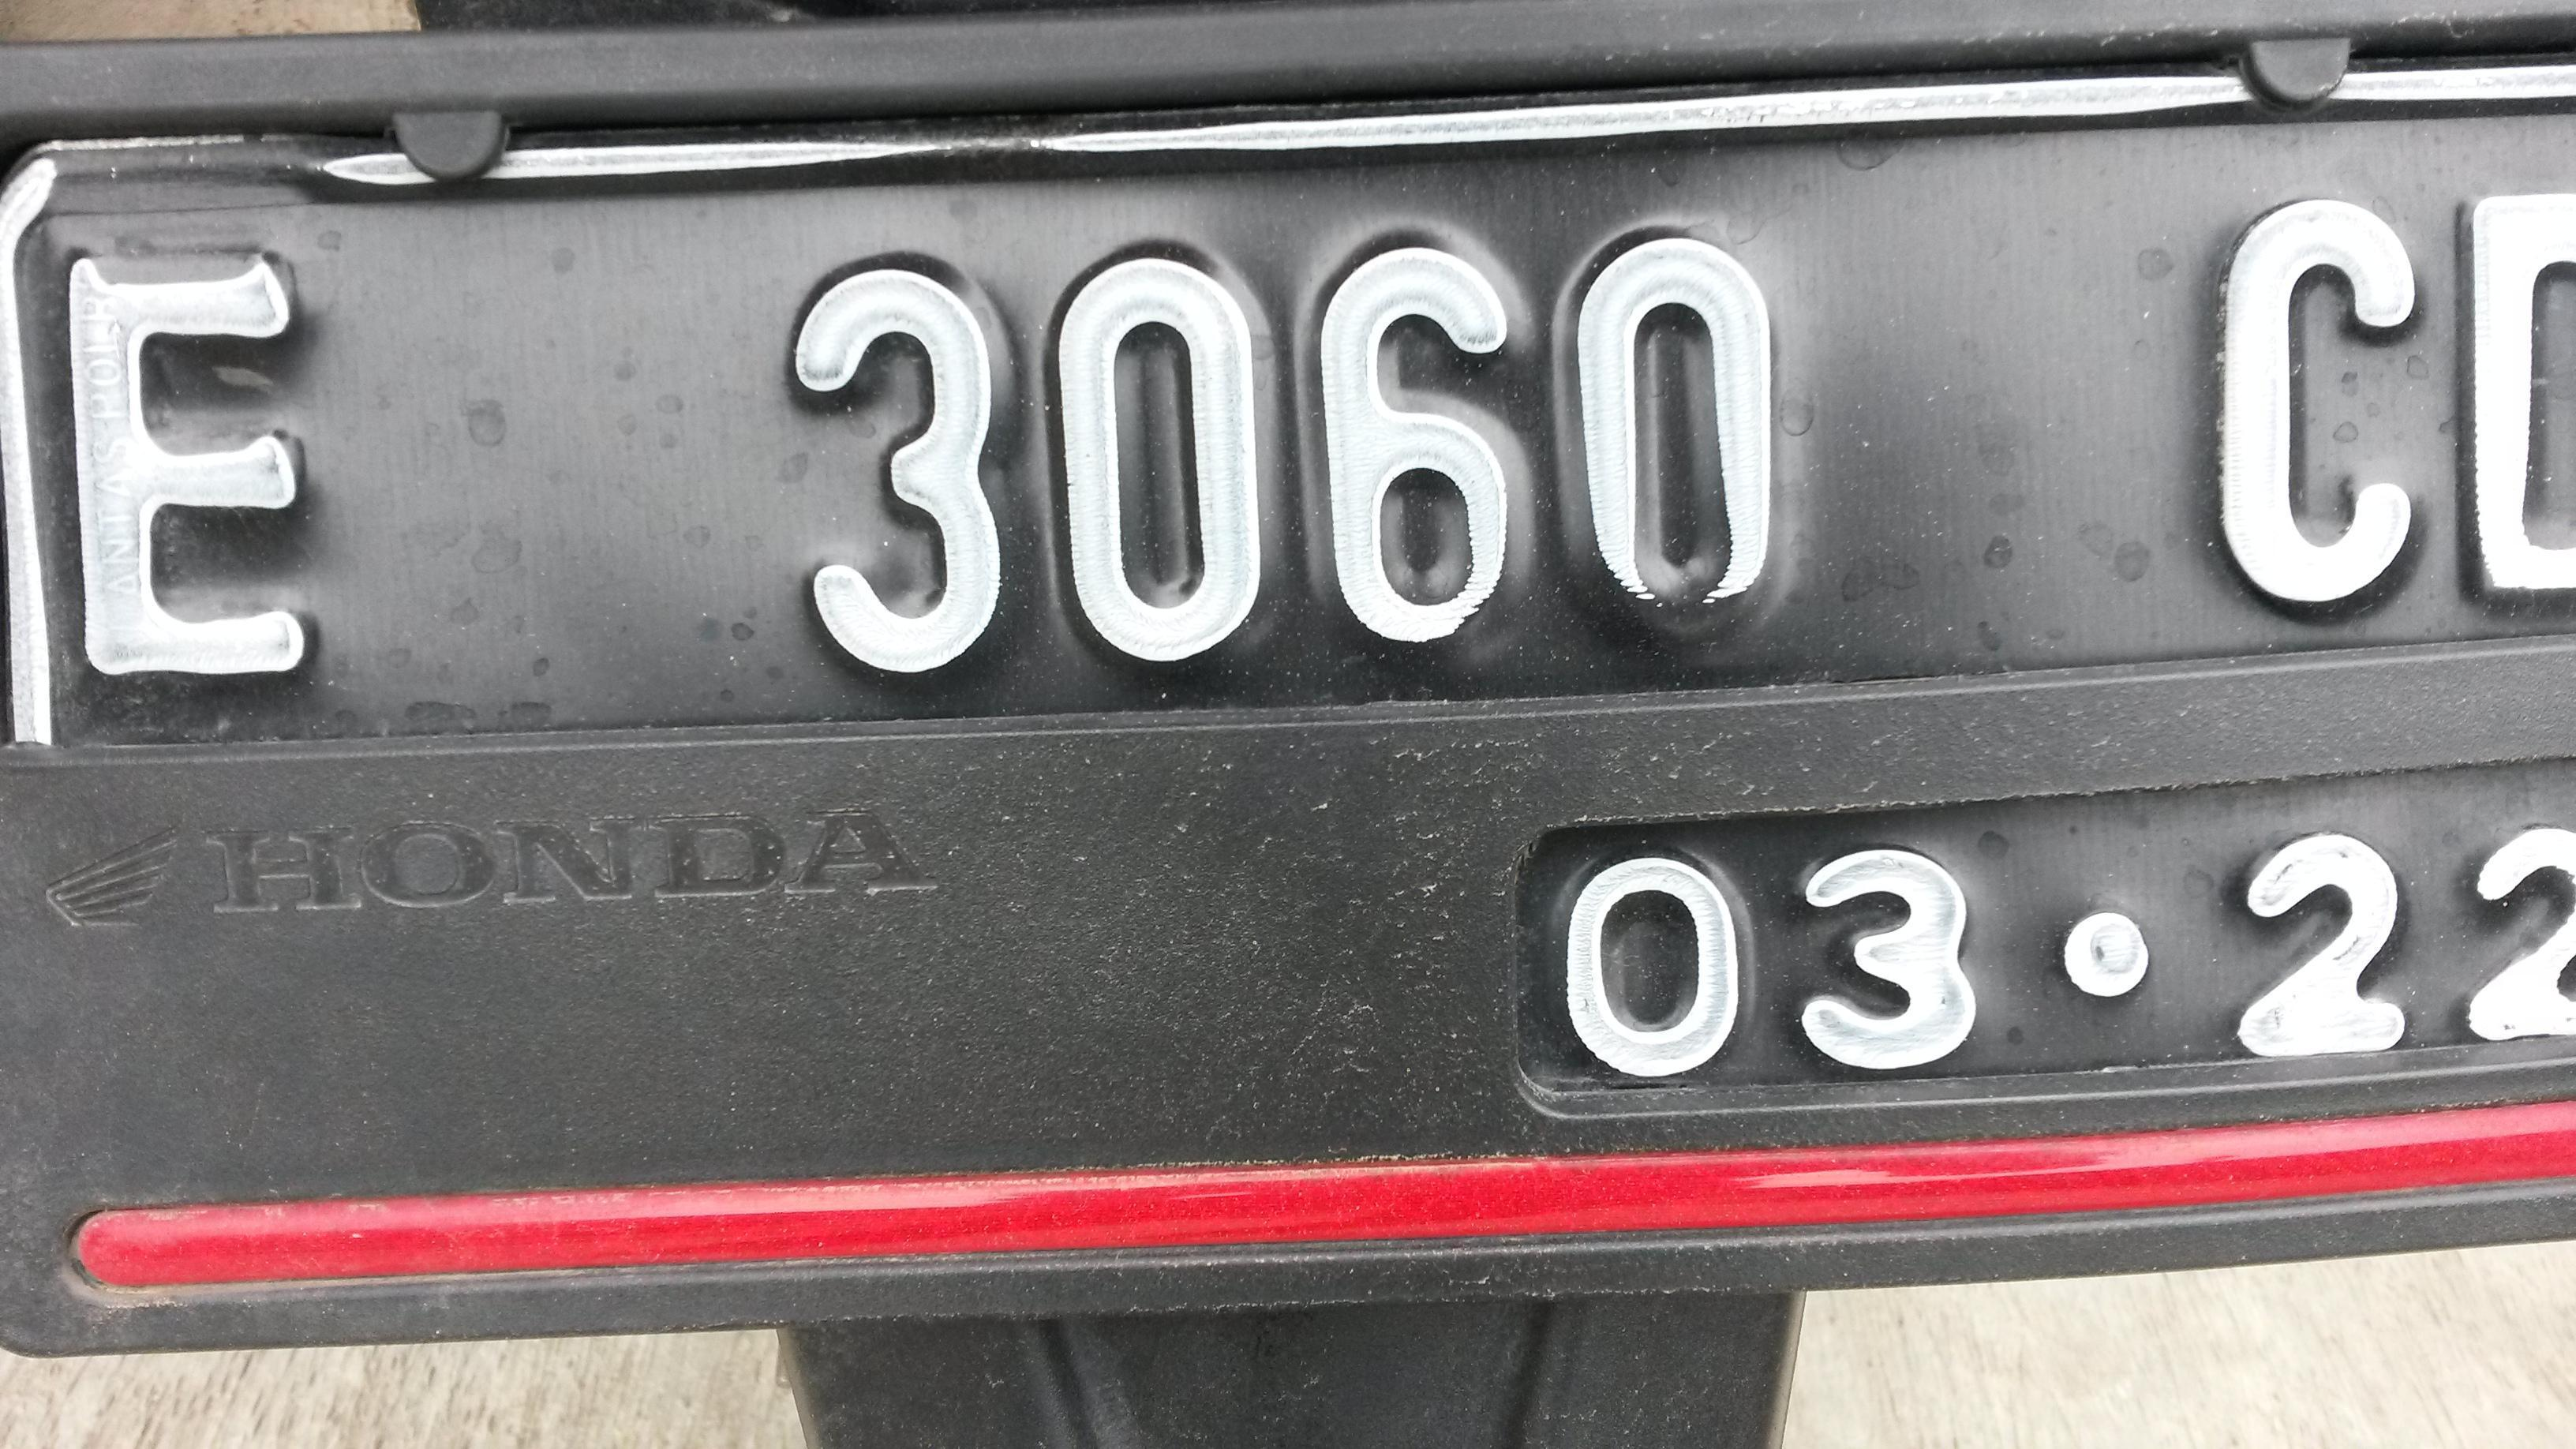0: (1030, 216, 1300, 688), (1537, 205, 1803, 635)
3: (750, 239, 1046, 702)
6: (1293, 214, 1555, 656)
C: (2162, 184, 2449, 633)
D: (2447, 177, 2576, 644)
E: (44, 226, 331, 711)
